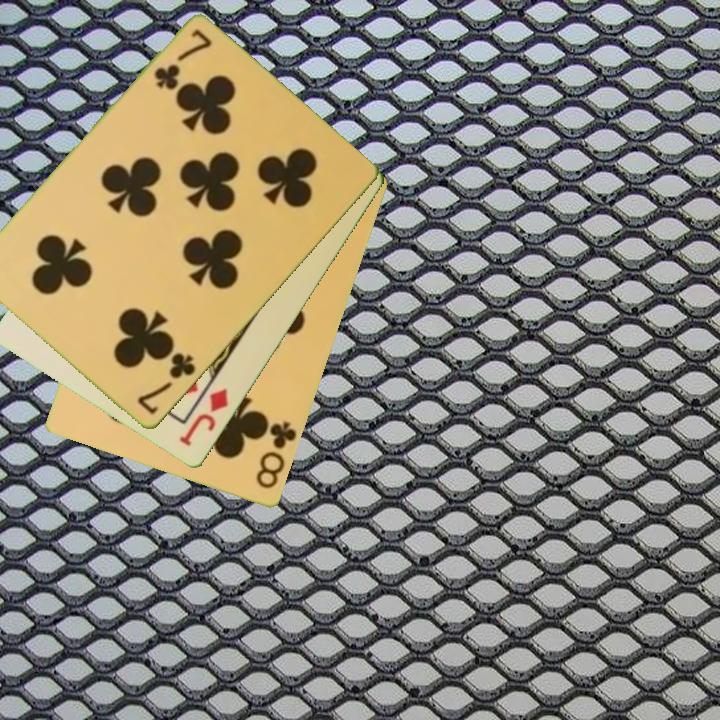7c: (134, 349, 199, 418), (150, 25, 215, 94)
8c: (252, 418, 300, 493)
Jd: (176, 385, 232, 450)
